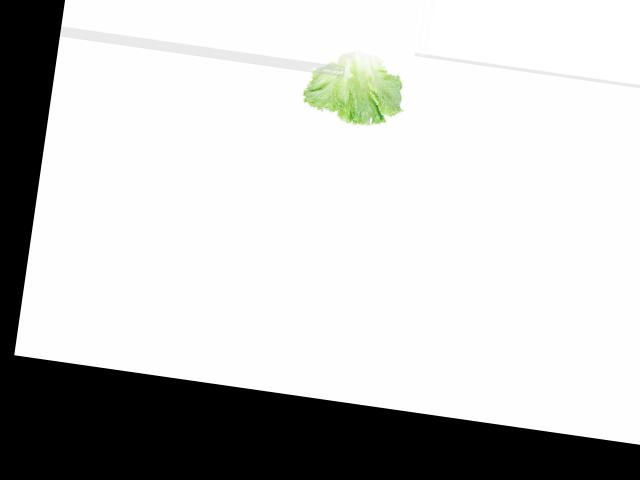lettuce: (304, 44, 409, 129)
